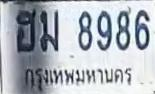6: (134, 9, 149, 49)
8: (77, 10, 92, 50), (115, 10, 130, 50)
9: (96, 10, 111, 50)
A33: (40, 9, 58, 51)
A44: (15, 9, 36, 51)
BKK: (22, 63, 133, 91)
